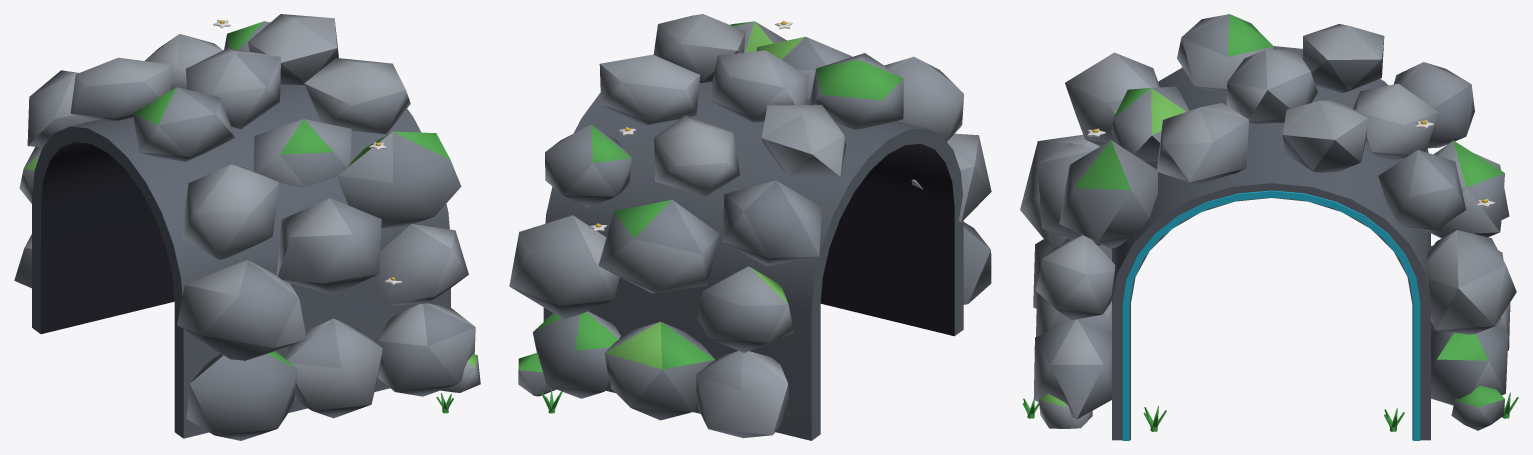
File: mint-cave.glb
The picture shows the model from 3 angles, left to right: view 1: azimuth 30°, elevation 25°; view 2: azimuth 150°, elevation 25°; view 3: azimuth 270°, elevation 25°; orthographic projection. The views are drawn at different scales.
Parts seen in each view (by area): view 1: mint-cave; view 2: mint-cave; view 3: mint-cave.
Part boxes in pixels (x1,y1,x2,y2): mint-cave: [14, 14, 480, 440]; mint-cave: [509, 14, 991, 440]; mint-cave: [1020, 14, 1518, 440].
Size of the model in its own units: 3 by 2.99 by 4.25.
